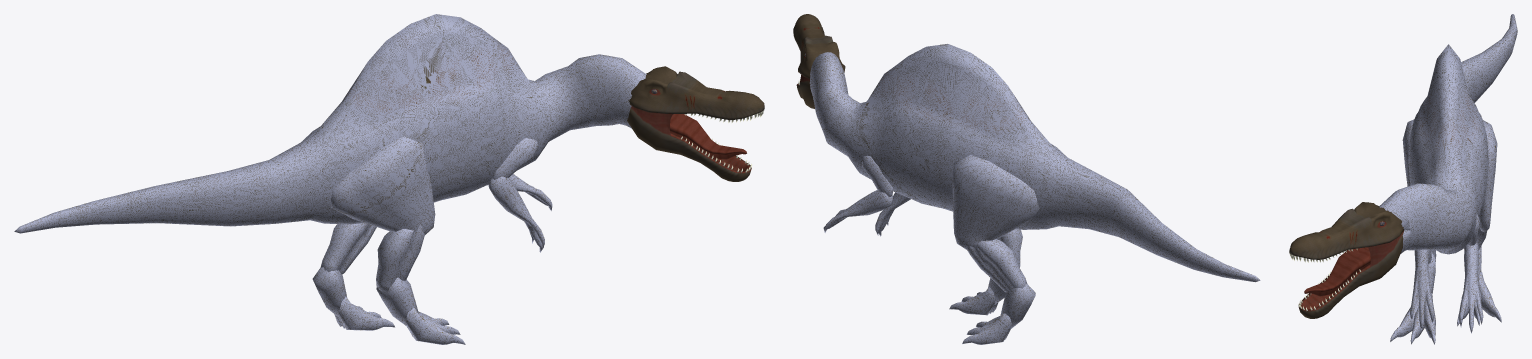
The model's file is spinopose2.obj.
3 views of the same model, side by side, from view 1: azimuth 30°, elevation 25°; view 2: azimuth 150°, elevation 25°; view 3: azimuth 270°, elevation 25° (orthographic). The views are drawn at different scales.
Parts seen in each view (by area): view 1: Mesh100 Component_23_1 Model, Mesh85 Component_16_1 Component_22_1 Model, Mesh82 Component_6_1 Component_13_1 Model, Mesh39 Component_12_1 Component_13_1 Model, Mesh87 Component_19_1 Component_22_1 Model, Mesh95 Component_19_2 Component_20_1 Model, Mesh83 Component_10_1 Component_13_1 Model, Mesh90 Component_14_1 Component_21_1 Model, Mesh84 Component_17_1 Component_22_1 Model, Mesh92 Component_17_2 Component_20_1 Model, Mesh88 Component_18_2 Component_22_1 Model, Mesh96 Component_18_5 Component_20_1 Model (+1 smaller); view 2: Mesh100 Component_23_1 Model, Mesh93 Component_16_2 Component_20_1 Model, Mesh95 Component_19_2 Component_20_1 Model, Mesh82 Component_6_1 Component_13_1 Model, Mesh98 Component_14_2 Component_21_2 Model, Mesh92 Component_17_2 Component_20_1 Model, Mesh94 Component_18_4 Component_20_1 Model, Mesh86 Component_18_1 Component_22_1 Model, Mesh99 Component_15_2 Component_21_2 Model, Mesh90 Component_14_1 Component_21_1 Model, Mesh87 Component_19_1 Component_22_1 Model, Mesh39 Component_12_1 Component_13_1 Model; view 3: Mesh100 Component_23_1 Model, Mesh82 Component_6_1 Component_13_1 Model, Mesh39 Component_12_1 Component_13_1 Model, Mesh83 Component_10_1 Component_13_1 Model, Mesh98 Component_14_2 Component_21_2 Model, Mesh90 Component_14_1 Component_21_1 Model, Mesh93 Component_16_2 Component_20_1 Model, Mesh94 Component_18_4 Component_20_1 Model, Mesh88 Component_18_2 Component_22_1 Model, Mesh85 Component_16_1 Component_22_1 Model, Mesh86 Component_18_1 Component_22_1 Model, Mesh89 Component_18_3 Component_22_1 Model (+1 smaller).
Boxes of the visible parts, x1=… form: Mesh100 Component_23_1 Model: x1=14, y1=14, x2=646, y2=233; Mesh85 Component_16_1 Component_22_1 Model: x1=331, y1=136, x2=435, y2=234; Mesh82 Component_6_1 Component_13_1 Model: x1=629, y1=66, x2=764, y2=119; Mesh39 Component_12_1 Component_13_1 Model: x1=627, y1=106, x2=751, y2=181; Mesh87 Component_19_1 Component_22_1 Model: x1=376, y1=224, x2=424, y2=292; Mesh95 Component_19_2 Component_20_1 Model: x1=320, y1=223, x2=376, y2=274; Mesh83 Component_10_1 Component_13_1 Model: x1=670, y1=114, x2=746, y2=159; Mesh90 Component_14_1 Component_21_1 Model: x1=488, y1=176, x2=544, y2=252; Mesh84 Component_17_1 Component_22_1 Model: x1=376, y1=277, x2=418, y2=325; Mesh92 Component_17_2 Component_20_1 Model: x1=312, y1=267, x2=346, y2=316; Mesh88 Component_18_2 Component_22_1 Model: x1=405, y1=307, x2=465, y2=344; Mesh96 Component_18_5 Component_20_1 Model: x1=338, y1=296, x2=394, y2=330; Mesh100 Component_23_1 Model: x1=809, y1=44, x2=1260, y2=282; Mesh93 Component_16_2 Component_20_1 Model: x1=952, y1=155, x2=1039, y2=249; Mesh95 Component_19_2 Component_20_1 Model: x1=967, y1=239, x2=1027, y2=292; Mesh82 Component_6_1 Component_13_1 Model: x1=793, y1=14, x2=845, y2=78; Mesh98 Component_14_2 Component_21_2 Model: x1=823, y1=190, x2=892, y2=232; Mesh92 Component_17_2 Component_20_1 Model: x1=1000, y1=283, x2=1035, y2=329; Mesh94 Component_18_4 Component_20_1 Model: x1=962, y1=313, x2=1011, y2=344; Mesh86 Component_18_1 Component_22_1 Model: x1=949, y1=287, x2=995, y2=315; Mesh99 Component_15_2 Component_21_2 Model: x1=862, y1=155, x2=892, y2=196; Mesh90 Component_14_1 Component_21_1 Model: x1=875, y1=192, x2=910, y2=236; Mesh87 Component_19_1 Component_22_1 Model: x1=997, y1=229, x2=1022, y2=267; Mesh39 Component_12_1 Component_13_1 Model: x1=796, y1=75, x2=814, y2=108; Mesh100 Component_23_1 Model: x1=1379, y1=14, x2=1517, y2=254; Mesh82 Component_6_1 Component_13_1 Model: x1=1289, y1=202, x2=1404, y2=259; Mesh39 Component_12_1 Component_13_1 Model: x1=1298, y1=230, x2=1404, y2=318; Mesh83 Component_10_1 Component_13_1 Model: x1=1304, y1=247, x2=1370, y2=296; Mesh98 Component_14_2 Component_21_2 Model: x1=1458, y1=241, x2=1483, y2=333; Mesh90 Component_14_1 Component_21_1 Model: x1=1410, y1=249, x2=1434, y2=329; Mesh93 Component_16_2 Component_20_1 Model: x1=1479, y1=120, x2=1497, y2=231; Mesh94 Component_18_4 Component_20_1 Model: x1=1478, y1=271, x2=1501, y2=322; Mesh88 Component_18_2 Component_22_1 Model: x1=1390, y1=292, x2=1418, y2=341; Mesh85 Component_16_1 Component_22_1 Model: x1=1402, y1=119, x2=1414, y2=186; Mesh86 Component_18_1 Component_22_1 Model: x1=1424, y1=293, x2=1435, y2=344; Mesh89 Component_18_3 Component_22_1 Model: x1=1410, y1=305, x2=1424, y2=344.
Size of the model in its own units: 2692 by 1251 by 890.
7 materials, 6 textured.
